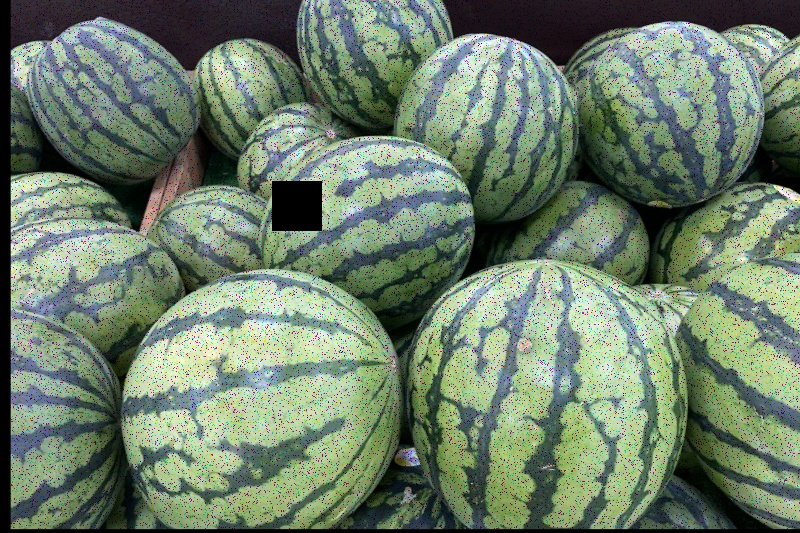watermelon: (408, 263, 687, 528), (122, 272, 404, 527), (250, 128, 477, 307), (584, 20, 768, 208), (402, 29, 574, 222), (28, 18, 199, 180), (11, 221, 190, 347)
